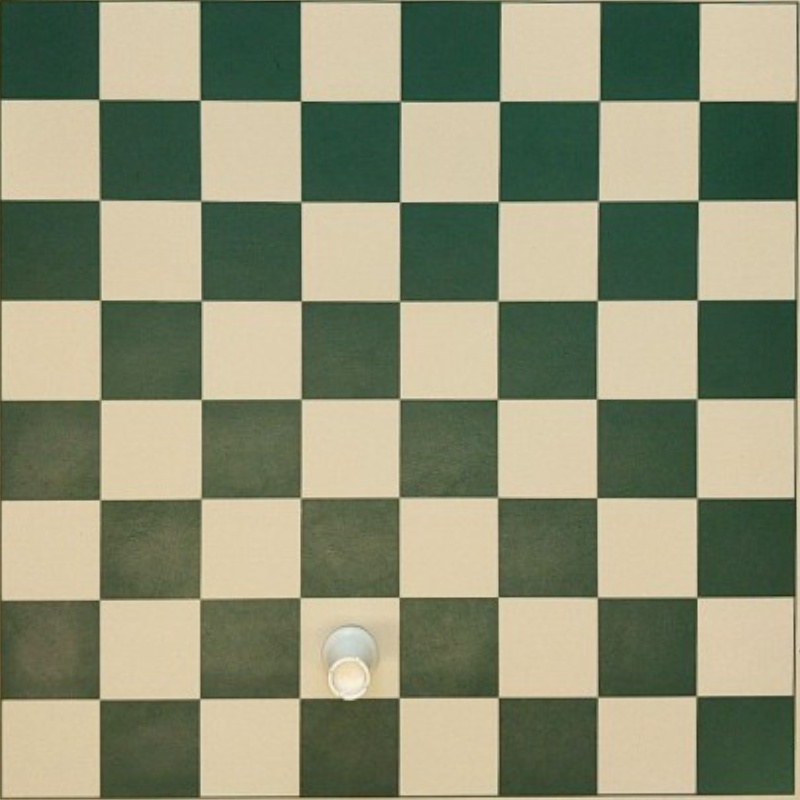white-rook: (323, 624, 377, 700)
